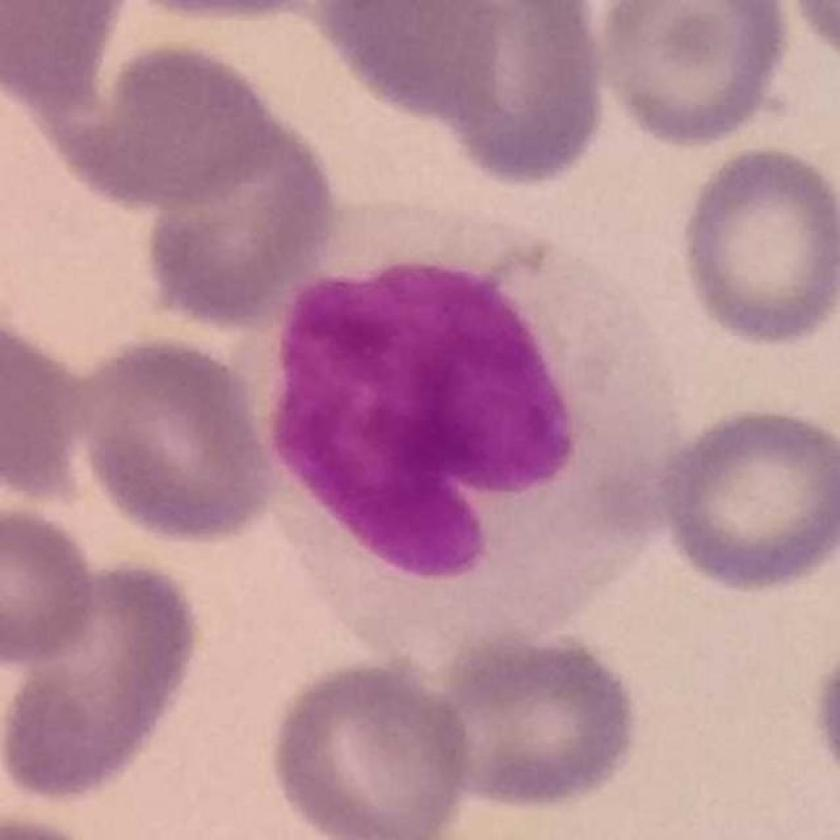monocyte: (229, 193, 707, 678)
